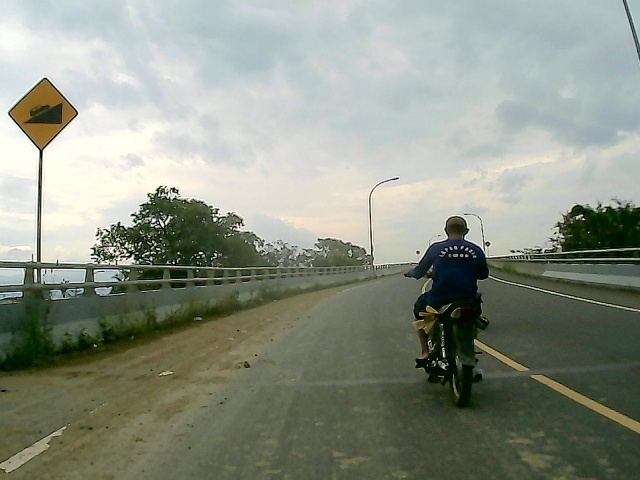Jalanan menanjak: (6, 76, 81, 153)
